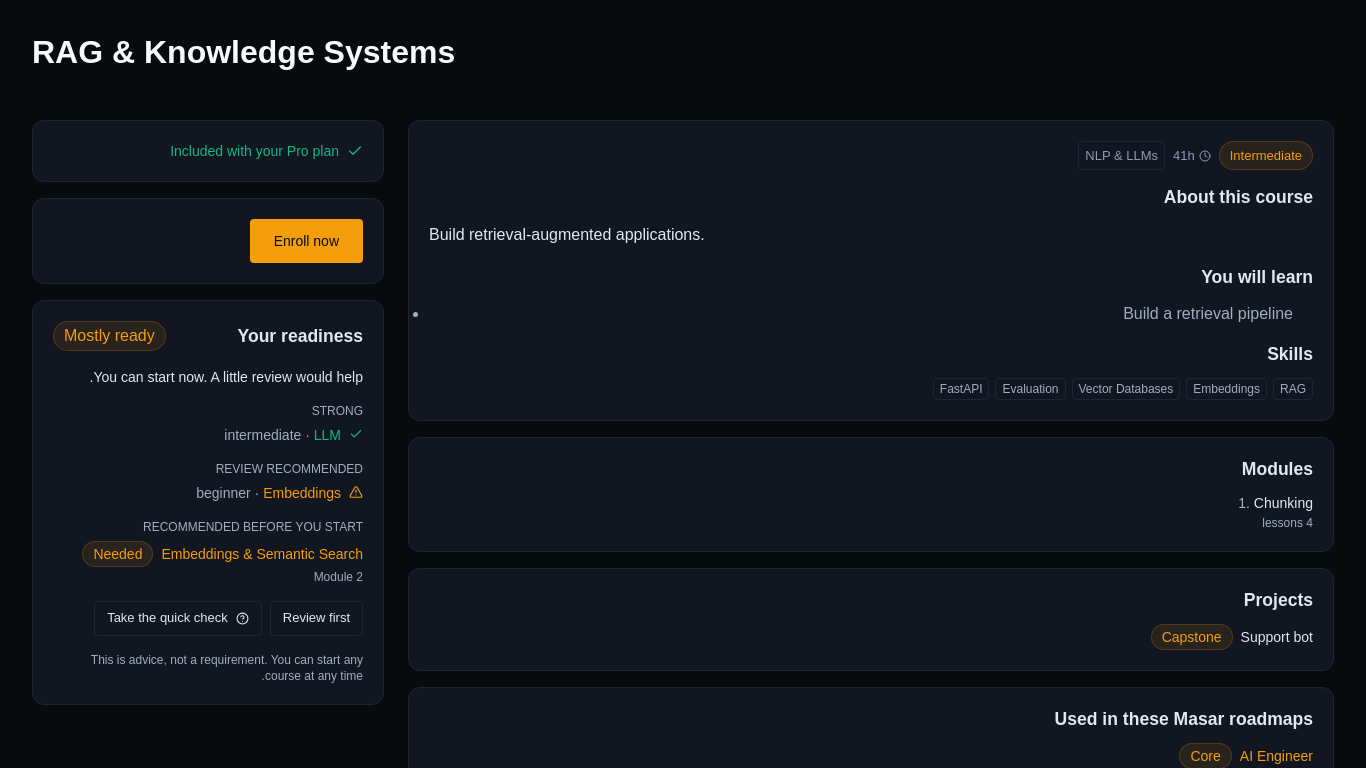
Test: a course on its own: no track, no goal › enrolls with nothing but the course: no track, goal or score is sent
Click the button "Enroll now".
click(306, 241)  # box [250, 219, 363, 263]
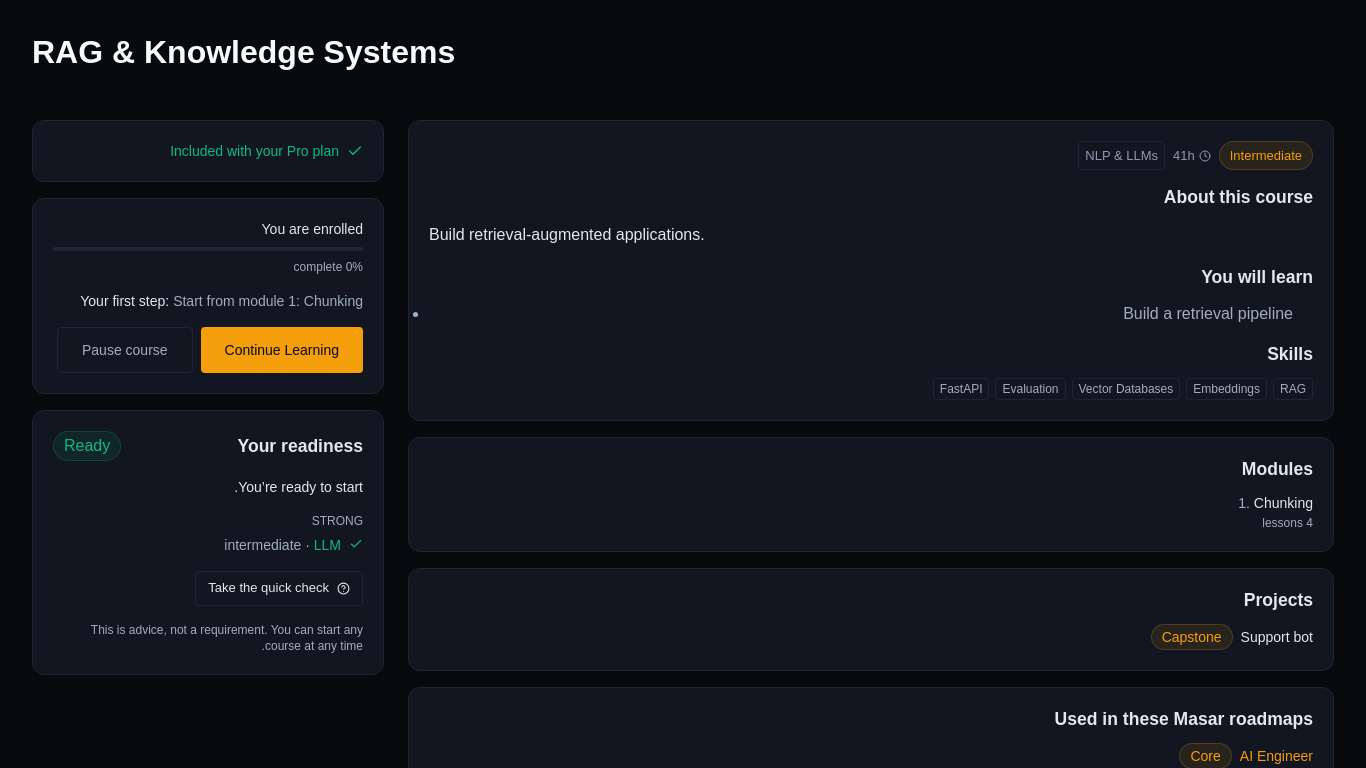
Expected: the text "You are enrolled" is shown, [262, 221, 363, 237]
Expected: the text "Your first step: Start from module 1: Chunking" is shown, [53, 291, 363, 311]
Expected: the button "Enroll now" is gone
